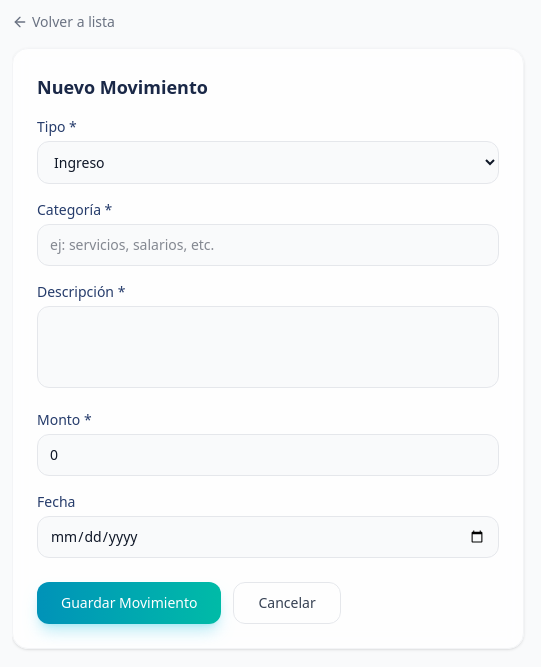
MovimientosCrear › shows loading state while submitting
The width and height of the screenshot is (541, 667).
Type "cat" into the field labelled "Categoría" at (268, 245), box [37, 224, 499, 266]
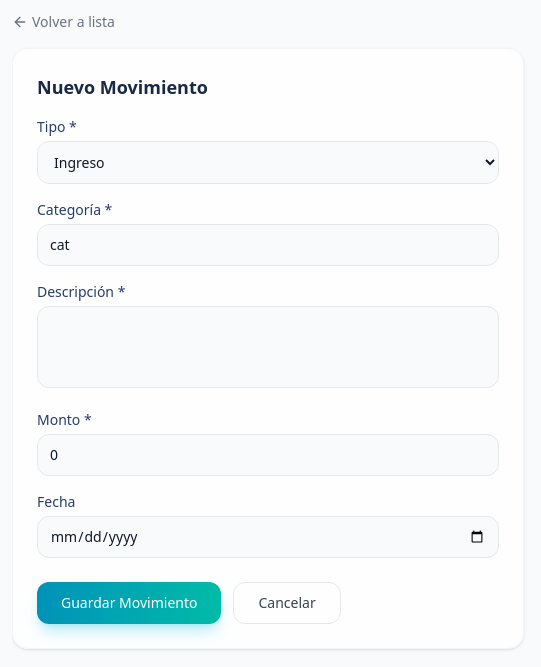
Type "desc" into the text box labelled "Descripción" at (268, 347), box [37, 306, 499, 388]
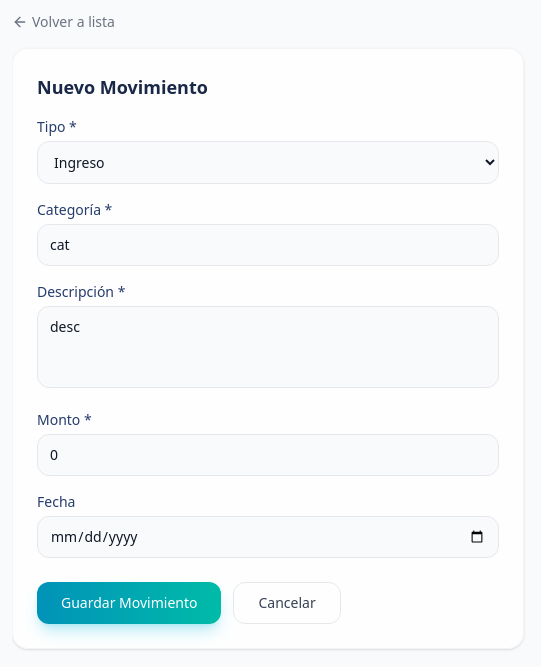
Replace the text in the number field labelled "Monto" with "1000" at (268, 455), box [37, 434, 499, 476]
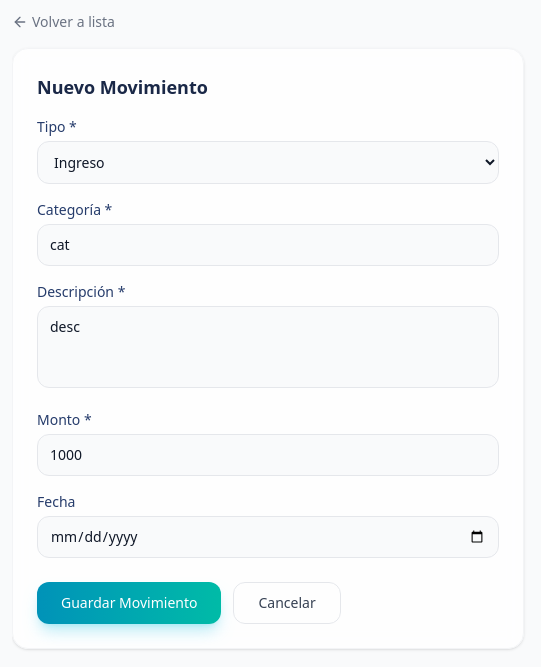
Click the button "Guardar Movimiento" at (129, 603), box [37, 582, 222, 624]
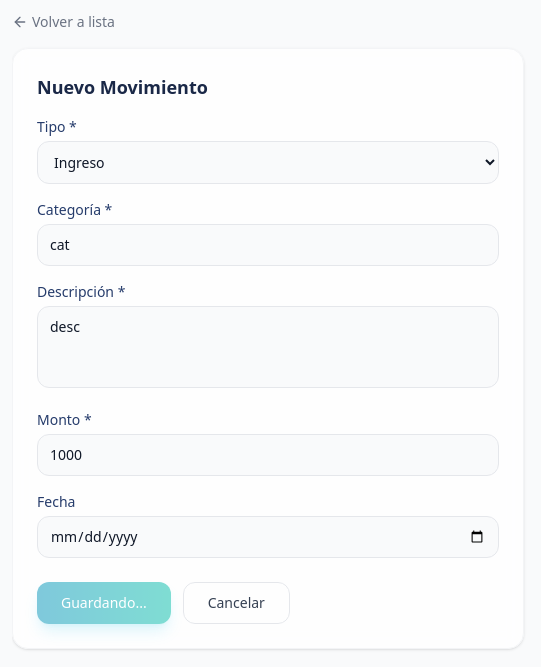
expect the button "Guardando..." is shown: met, box [37, 582, 171, 624]
